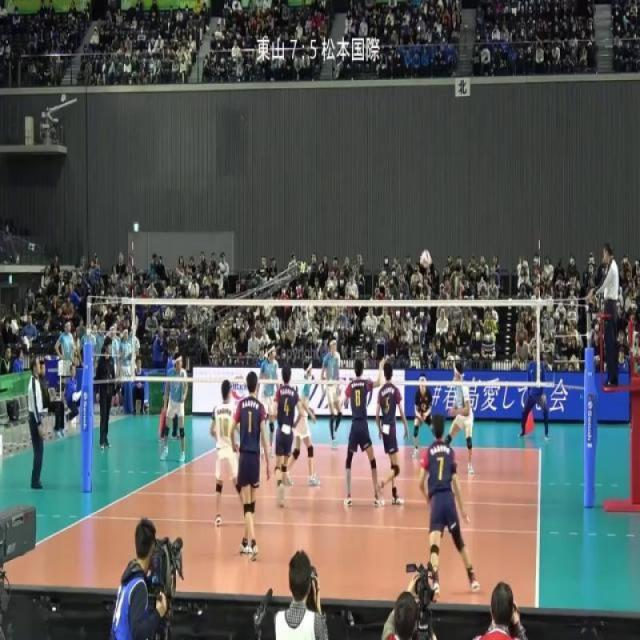volleyball: (421, 248, 431, 268)
